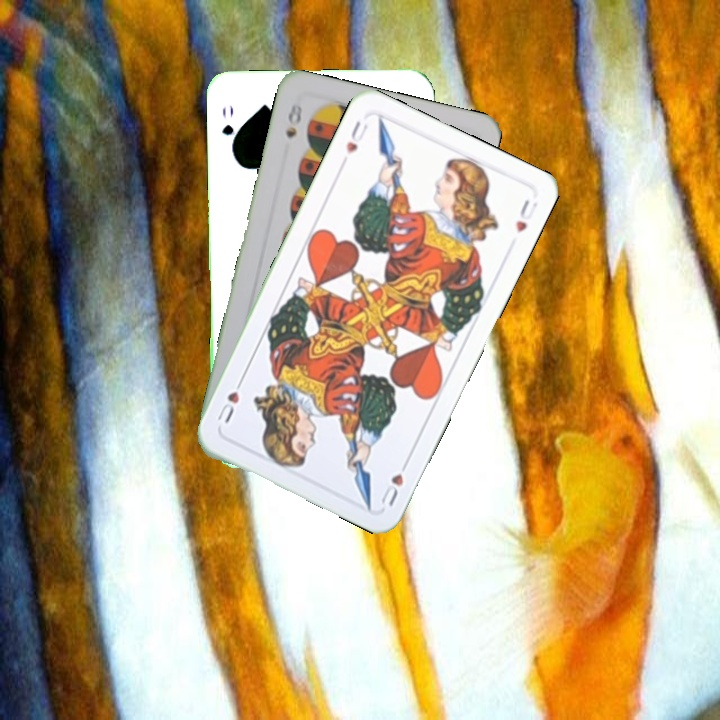GO: (218, 102, 241, 155)
HU: (377, 455, 412, 509), (341, 117, 371, 157)
S8: (281, 99, 306, 141)
